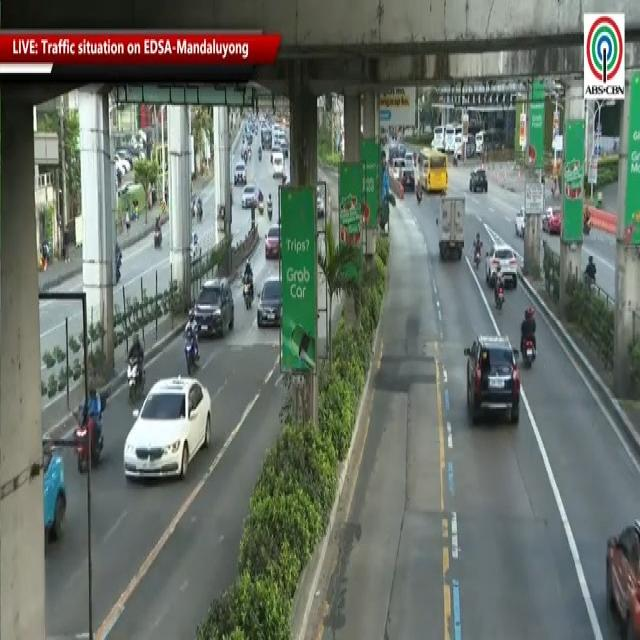car: (121, 375, 219, 485), (465, 327, 522, 432), (491, 235, 518, 293)
motorbike: (70, 366, 104, 488), (515, 287, 540, 382), (124, 317, 145, 410), (180, 304, 203, 379), (235, 245, 257, 317), (489, 260, 507, 318), (473, 224, 482, 283)
truck: (434, 182, 466, 273)
